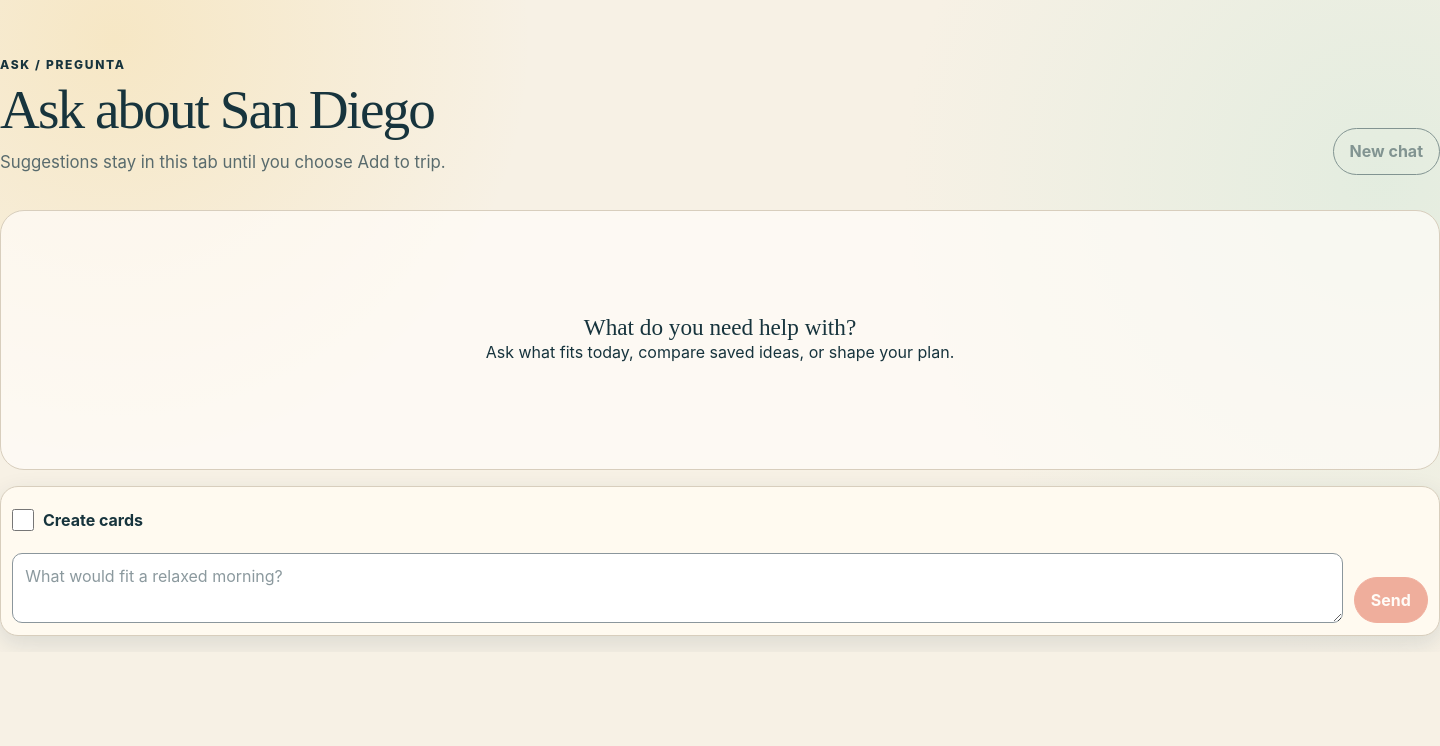
Test: submits with Enter, renders suggestions, dismisses locally, and confirms explicitly
In the text box named "Ask about this trip": x=678, y=588 [12, 552, 1343, 623], type "What should we do?"
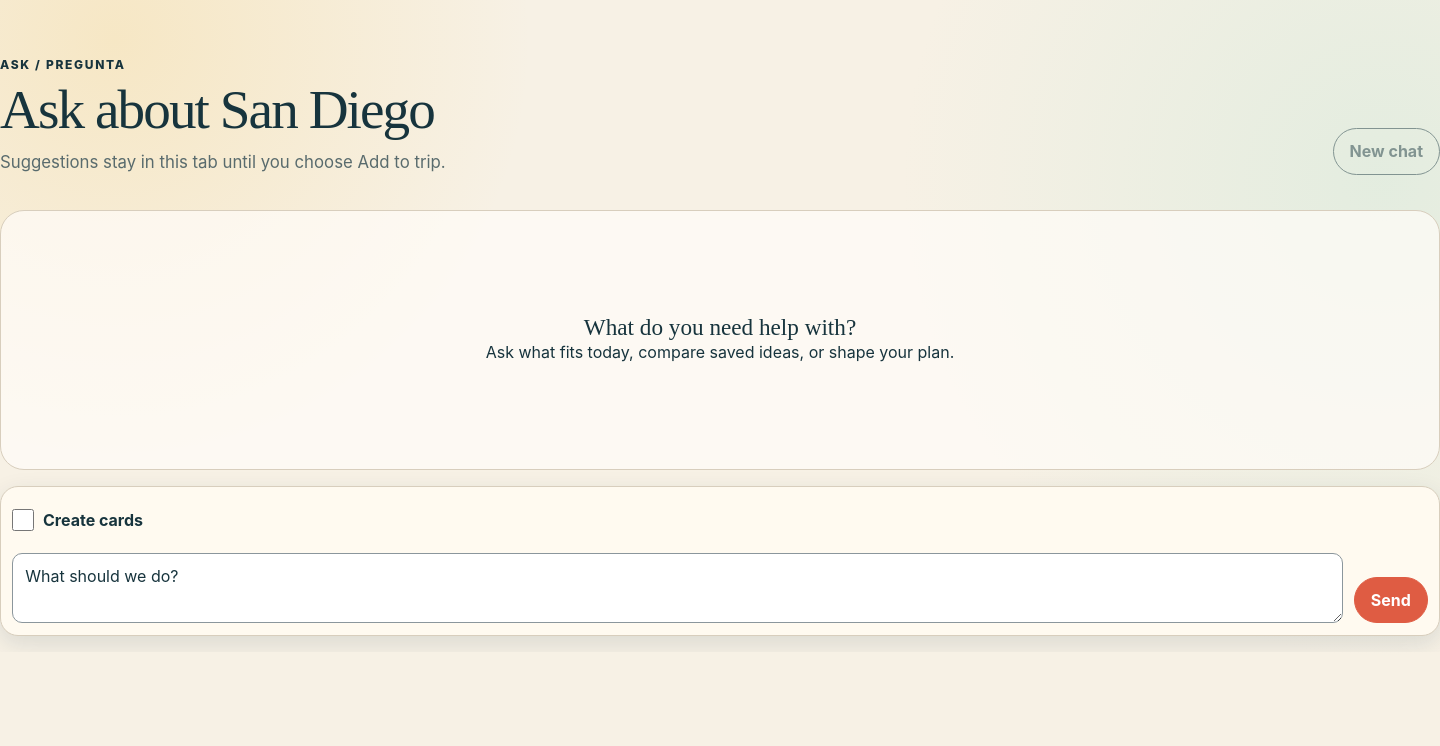
Press Enter in the text box named "Ask about this trip", box [12, 552, 1343, 623]
Press Enter in the text box named "Ask about this trip", box [12, 552, 1343, 623]
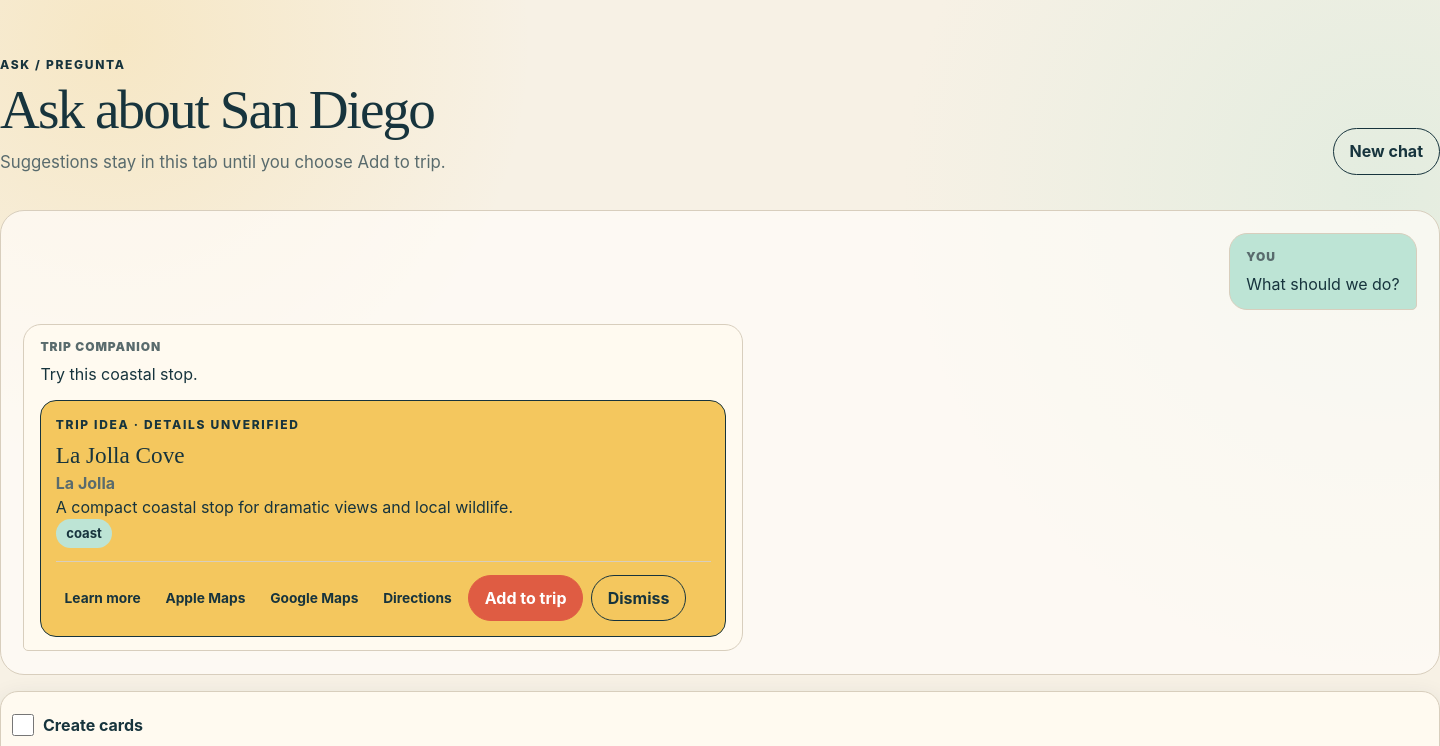
Expected: the text "Try this coastal stop." is shown, [40, 364, 198, 384]
Expected: the heading "La Jolla Cove" is shown, [56, 442, 185, 468]
Click the button with aria-label "Add La Jolla Cove to trip": x=526, y=598 [468, 575, 584, 621]
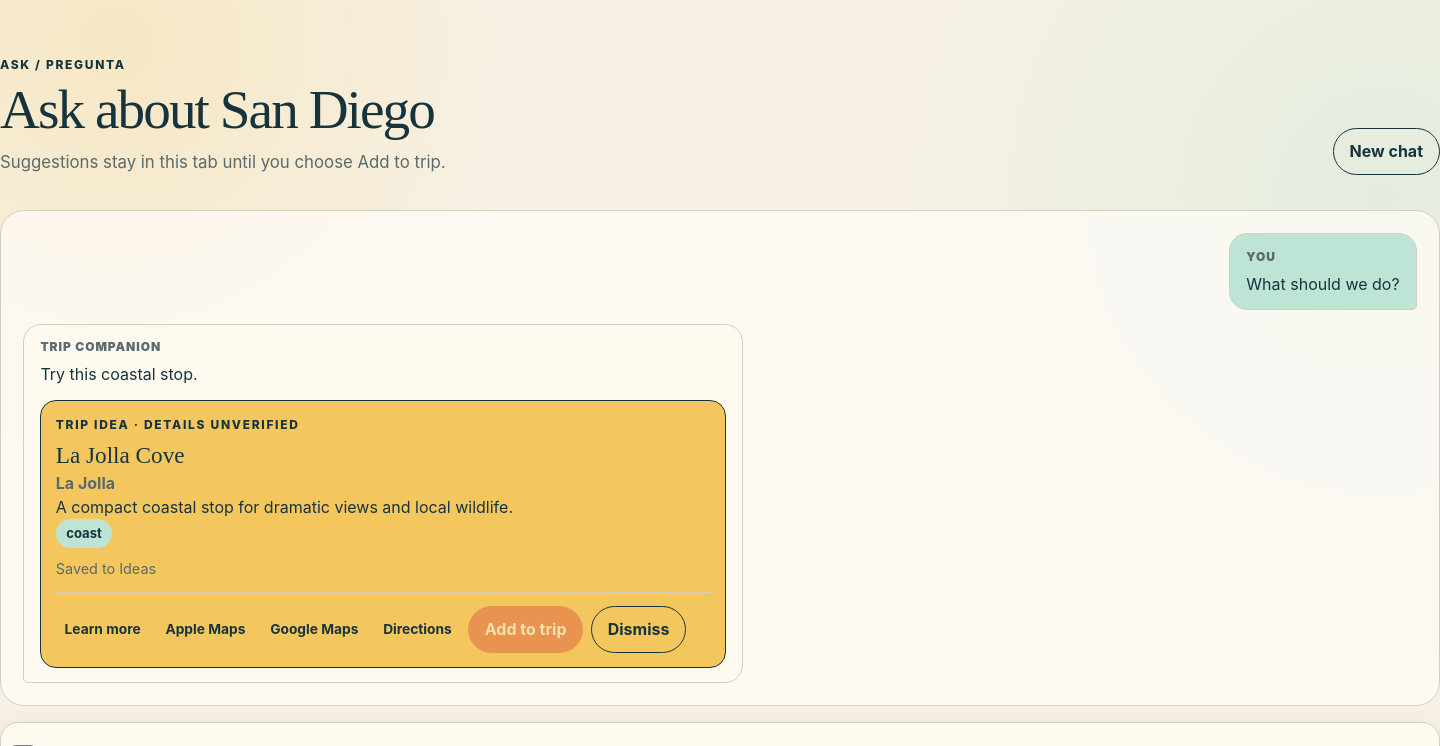
Expected: the text "Saved to Ideas" is shown, [56, 560, 156, 577]
Click the button with aria-label "Dismiss La Jolla Cove": x=639, y=629 [591, 606, 686, 653]
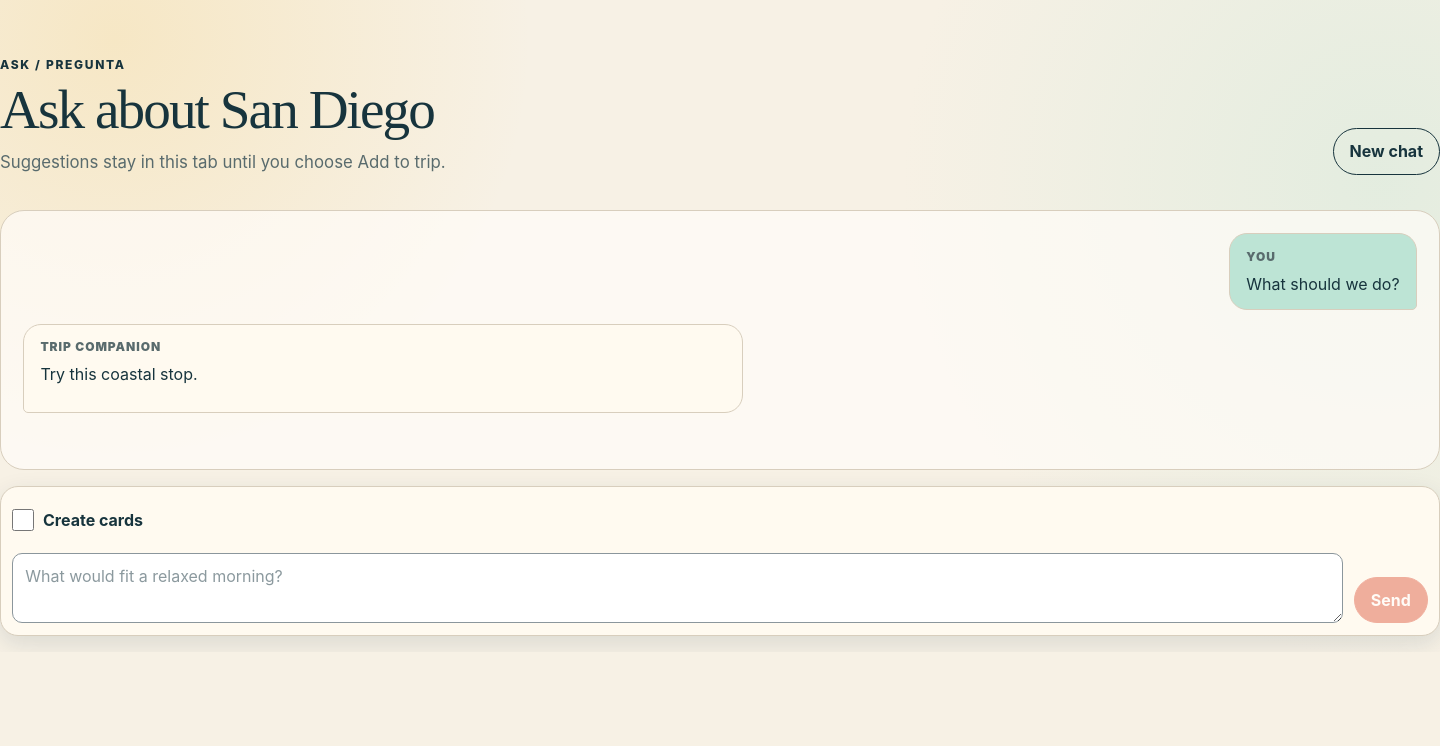
Expected: the heading "La Jolla Cove" is gone
